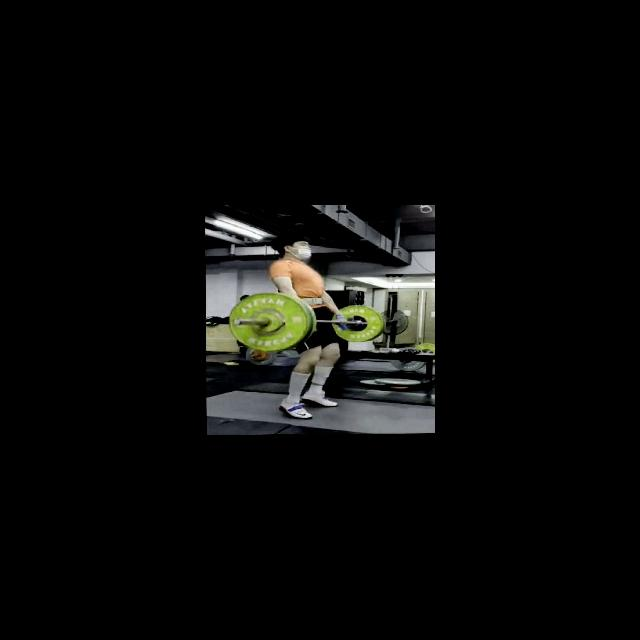barbell: (226, 291, 311, 354)
